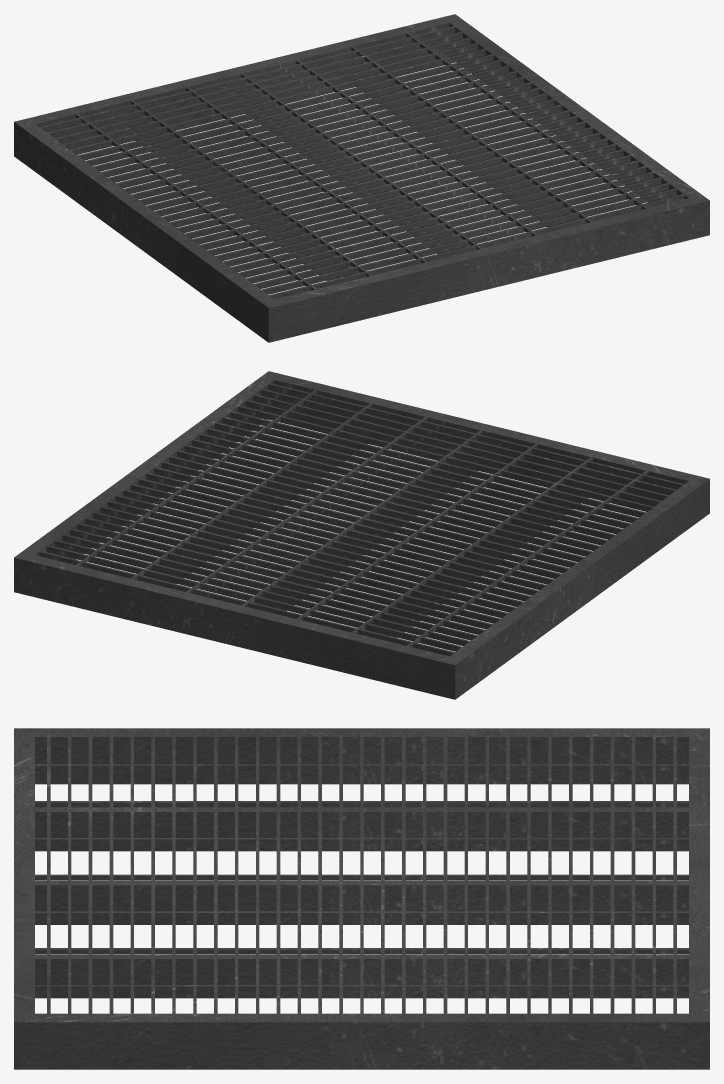
The model's file is kit_floor_grate.glb.
The picture shows the model from 3 angles, top to bottom: view 1: azimuth 30°, elevation 25°; view 2: azimuth 150°, elevation 25°; view 3: azimuth 270°, elevation 25°; orthographic projection. The views are drawn at different scales.
Visible parts, largest first — view 1: kit_floor_grate; view 2: kit_floor_grate; view 3: kit_floor_grate.
Part boxes in pixels (x1,y1,x2,y2): kit_floor_grate: (14, 14, 709, 342); kit_floor_grate: (14, 371, 709, 699); kit_floor_grate: (14, 728, 709, 1069).
Size of the model in its own units: 4 by 0.3 by 4.
Materials: 1 (1 with a texture image).
